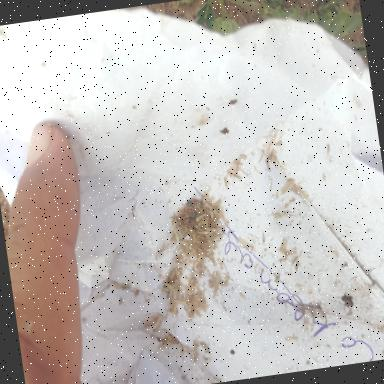pbw: (167, 210, 184, 242), (278, 178, 296, 194)
